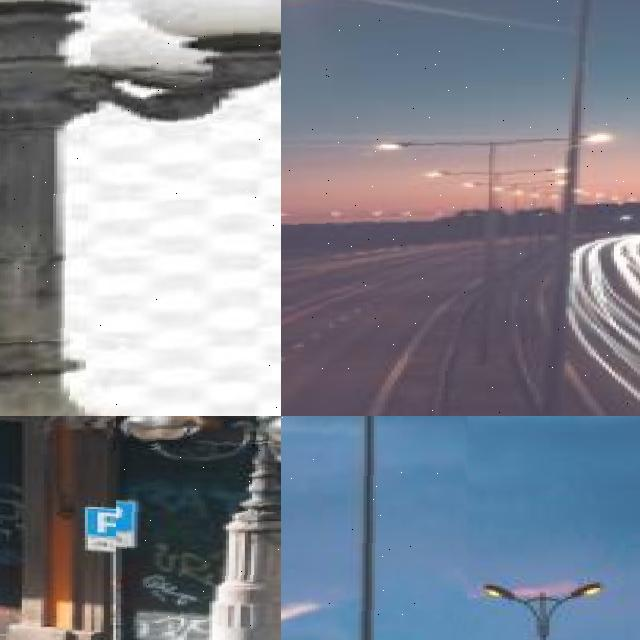street light: (281, 0, 640, 416), (0, 0, 281, 416), (378, 162, 604, 379), (281, 416, 467, 640), (116, 416, 281, 640), (426, 192, 562, 326), (486, 580, 602, 640), (318, 228, 342, 264), (362, 228, 380, 260), (281, 225, 293, 269)
